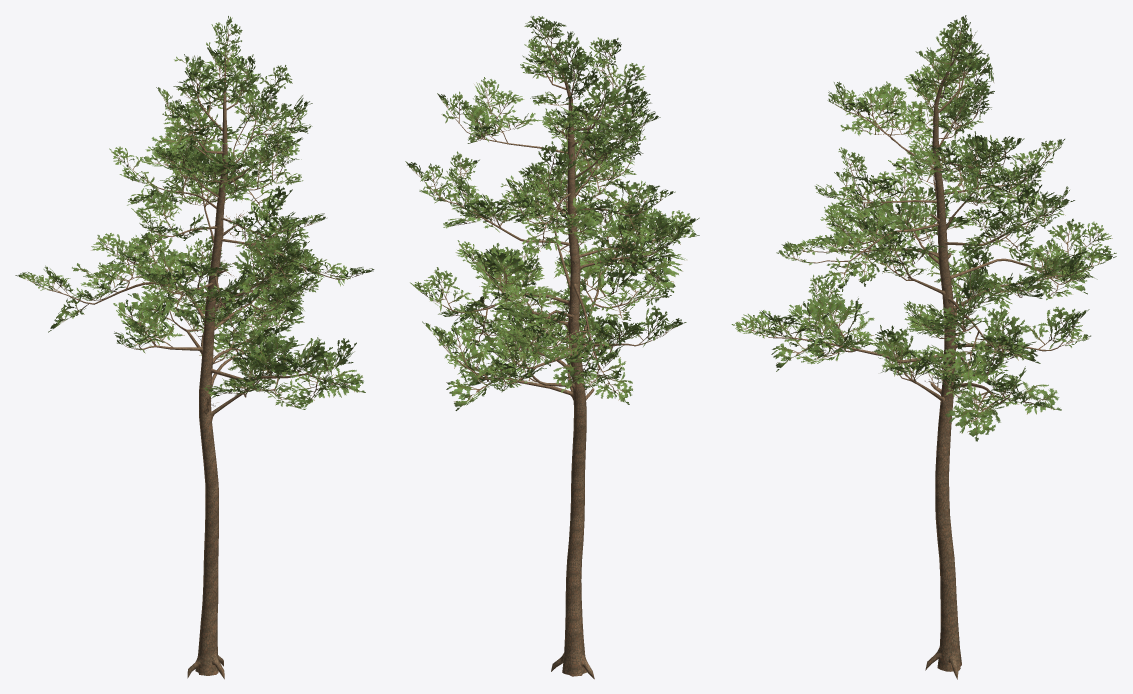
The picture shows the model from 3 angles, left to right: view 1: azimuth 30°, elevation 25°; view 2: azimuth 150°, elevation 25°; view 3: azimuth 270°, elevation 25°; orthographic projection. The views are drawn at different scales.
Parts seen in each view (by area): view 1: Pine_large_3_LOD0_Clusters_Mat_0; view 2: Pine_large_3_LOD0_Clusters_Mat_0; view 3: Pine_large_3_LOD0_Clusters_Mat_0.
Part boxes in pixels (box(x1,y1,x2,y2)): Pine_large_3_LOD0_Clusters_Mat_0: box(15, 16, 374, 679); Pine_large_3_LOD0_Clusters_Mat_0: box(405, 16, 699, 679); Pine_large_3_LOD0_Clusters_Mat_0: box(731, 15, 1116, 679).
Size of the model in its own units: 12.36 by 30.08 by 15.92.
